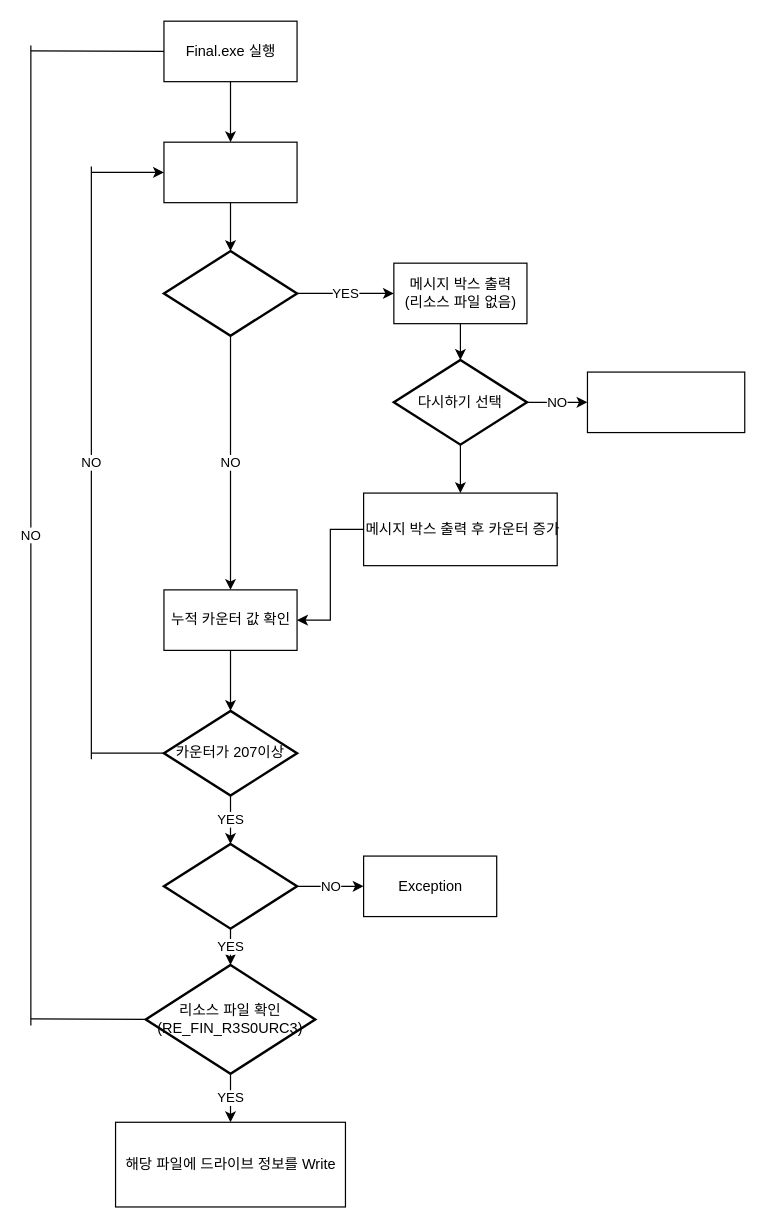
This 766x1228 diagram has some shape labels left out. Each missing label, with the box of its shape:
값이 0 또는 2: (162, 249, 298, 336)
추가 조건 확인: (162, 842, 298, 929)
특정 변수의 값을 확인: (163, 141, 297, 203)
프로그램 종료 또는 재실행: (586, 371, 745, 433)
